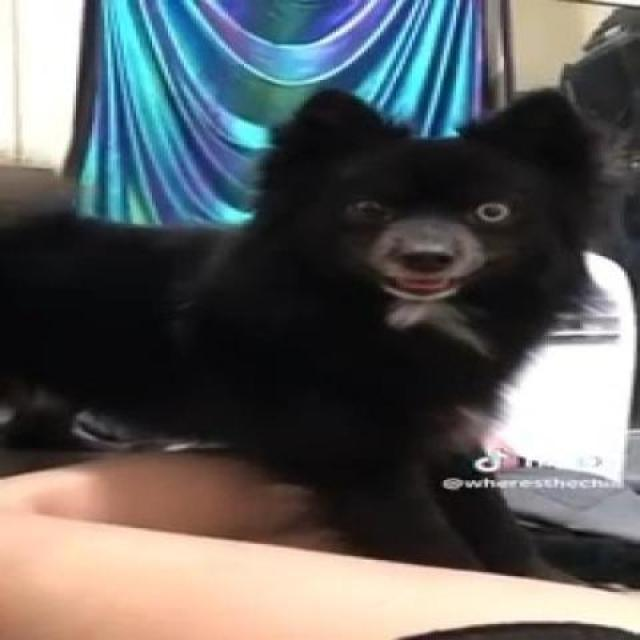dog: (243, 68, 615, 370)
